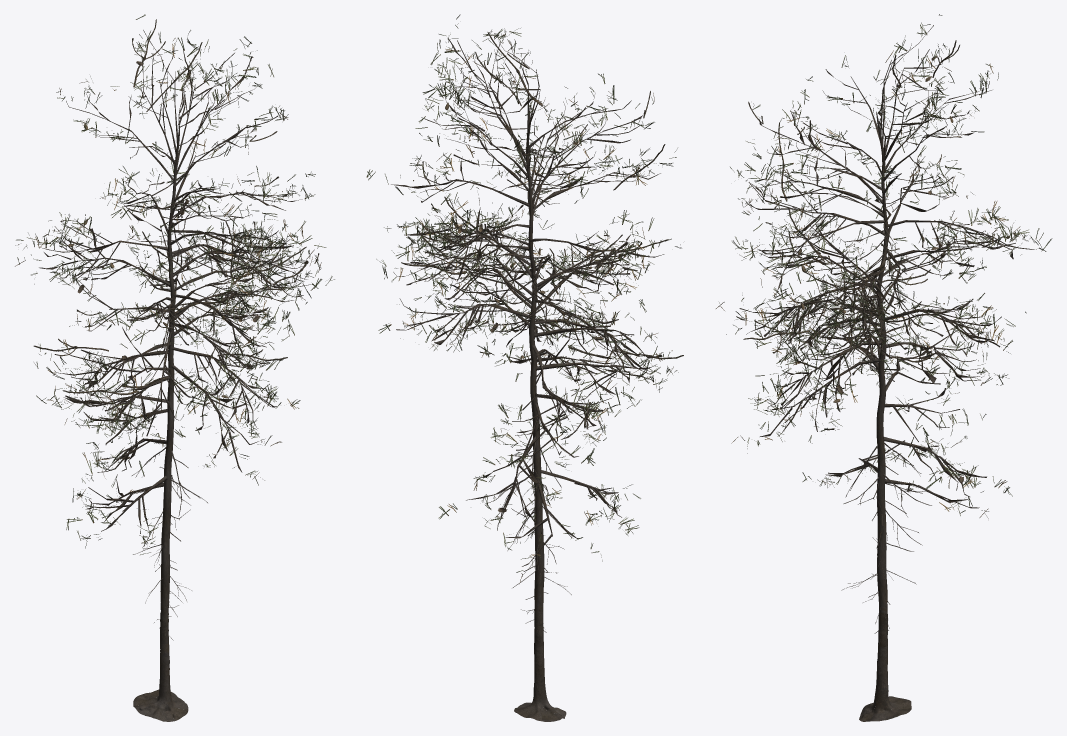
Rendered from pine_tree_01_c.glb.
3 renders of one model, left to right at view 1: azimuth 30°, elevation 25°; view 2: azimuth 150°, elevation 25°; view 3: azimuth 270°, elevation 25°, orthographic. The views are drawn at different scales.
Parts seen in each view (by area): view 1: pine_tree_01_c_LOD0.003, pine_tree_01_c_LOD0.001, pine_tree_01_c_LOD0.002, pine_tree_01_c_LOD0; view 2: pine_tree_01_c_LOD0.003, pine_tree_01_c_LOD0.001, pine_tree_01_c_LOD0.002, pine_tree_01_c_LOD0; view 3: pine_tree_01_c_LOD0.003, pine_tree_01_c_LOD0.001, pine_tree_01_c_LOD0.002, pine_tree_01_c_LOD0.
Part boxes in pixels (left/top/right/bottom): pine_tree_01_c_LOD0.003: left=15, top=14, right=334, bottom=554; pine_tree_01_c_LOD0.001: left=39, top=30, right=311, bottom=533; pine_tree_01_c_LOD0.002: left=133, top=126, right=188, bottom=721; pine_tree_01_c_LOD0: left=132, top=447, right=207, bottom=640; pine_tree_01_c_LOD0.003: left=366, top=14, right=683, bottom=583; pine_tree_01_c_LOD0.001: left=391, top=38, right=664, bottom=566; pine_tree_01_c_LOD0.002: left=514, top=105, right=566, bottom=721; pine_tree_01_c_LOD0: left=488, top=442, right=573, bottom=632; pine_tree_01_c_LOD0.003: left=716, top=14, right=1052, bottom=518; pine_tree_01_c_LOD0.001: left=739, top=25, right=1040, bottom=508; pine_tree_01_c_LOD0.002: left=859, top=111, right=911, bottom=721; pine_tree_01_c_LOD0: left=841, top=443, right=931, bottom=645.
Bounding box in the file's own units: 7.58 × 17.54 × 7.57.
4 materials, 4 textured.
